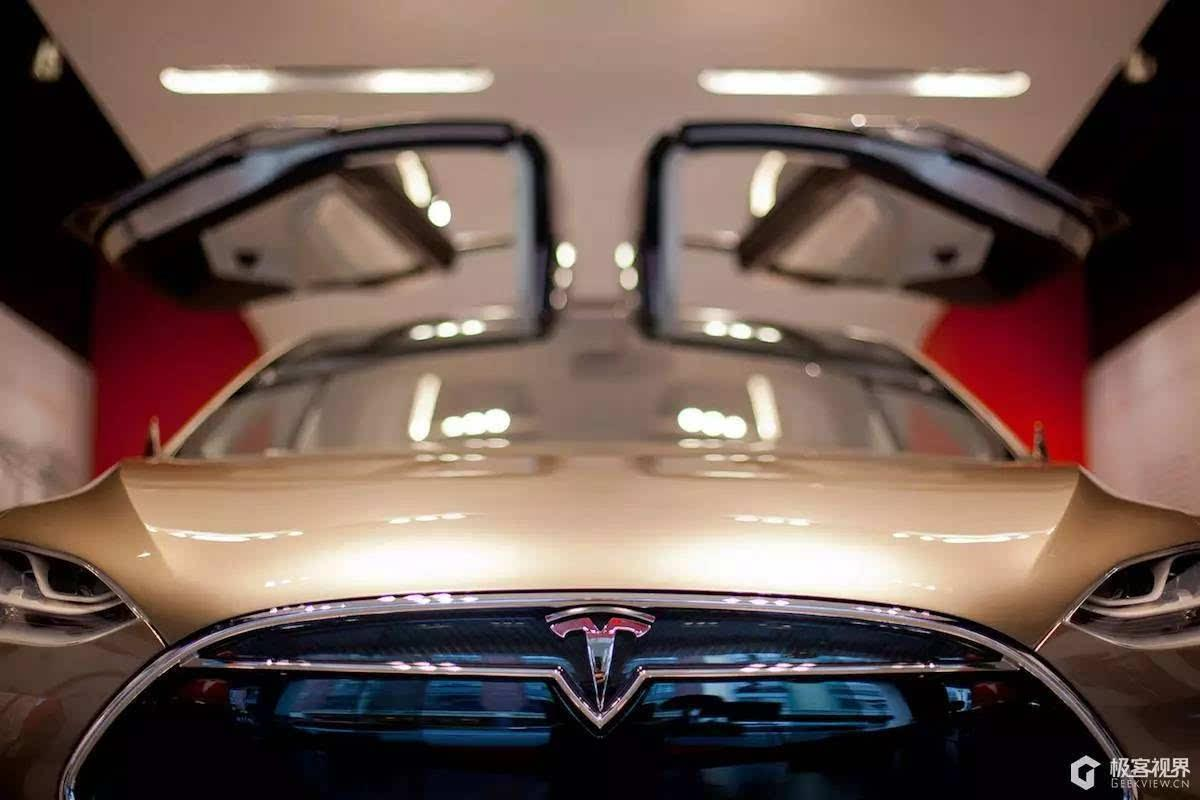Tesla: (543, 601, 656, 721)
